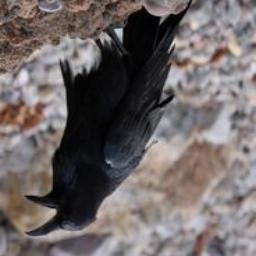Crow: (25, 0, 198, 236)
